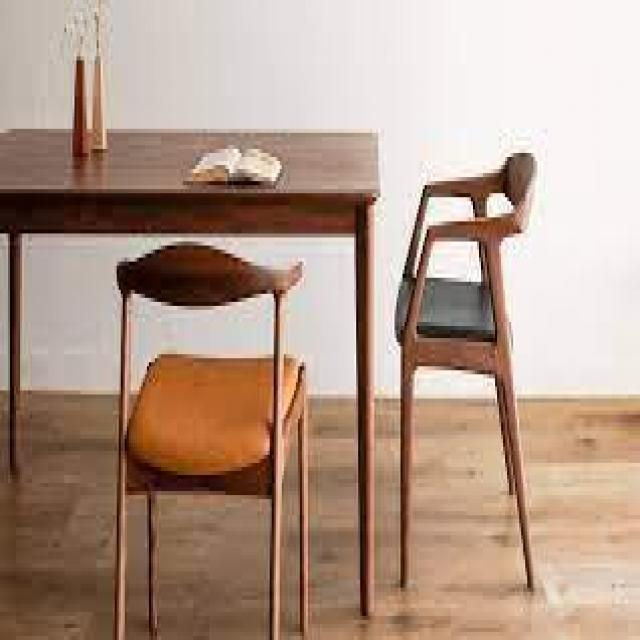chair: (105, 223, 543, 618)
